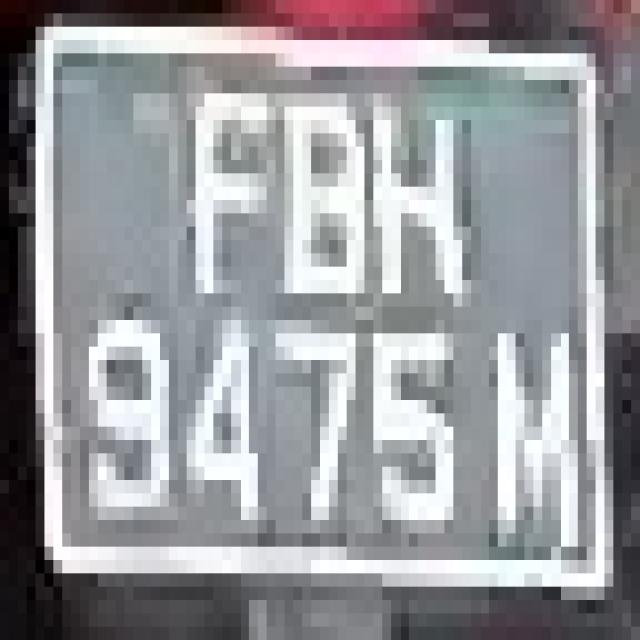4: (151, 333, 293, 560)
5: (356, 307, 462, 573)
7: (249, 267, 373, 560)
9: (71, 280, 178, 533)
B: (258, 40, 364, 333)
F: (160, 54, 267, 334)
H: (364, 40, 489, 347)
M: (471, 293, 587, 600)
